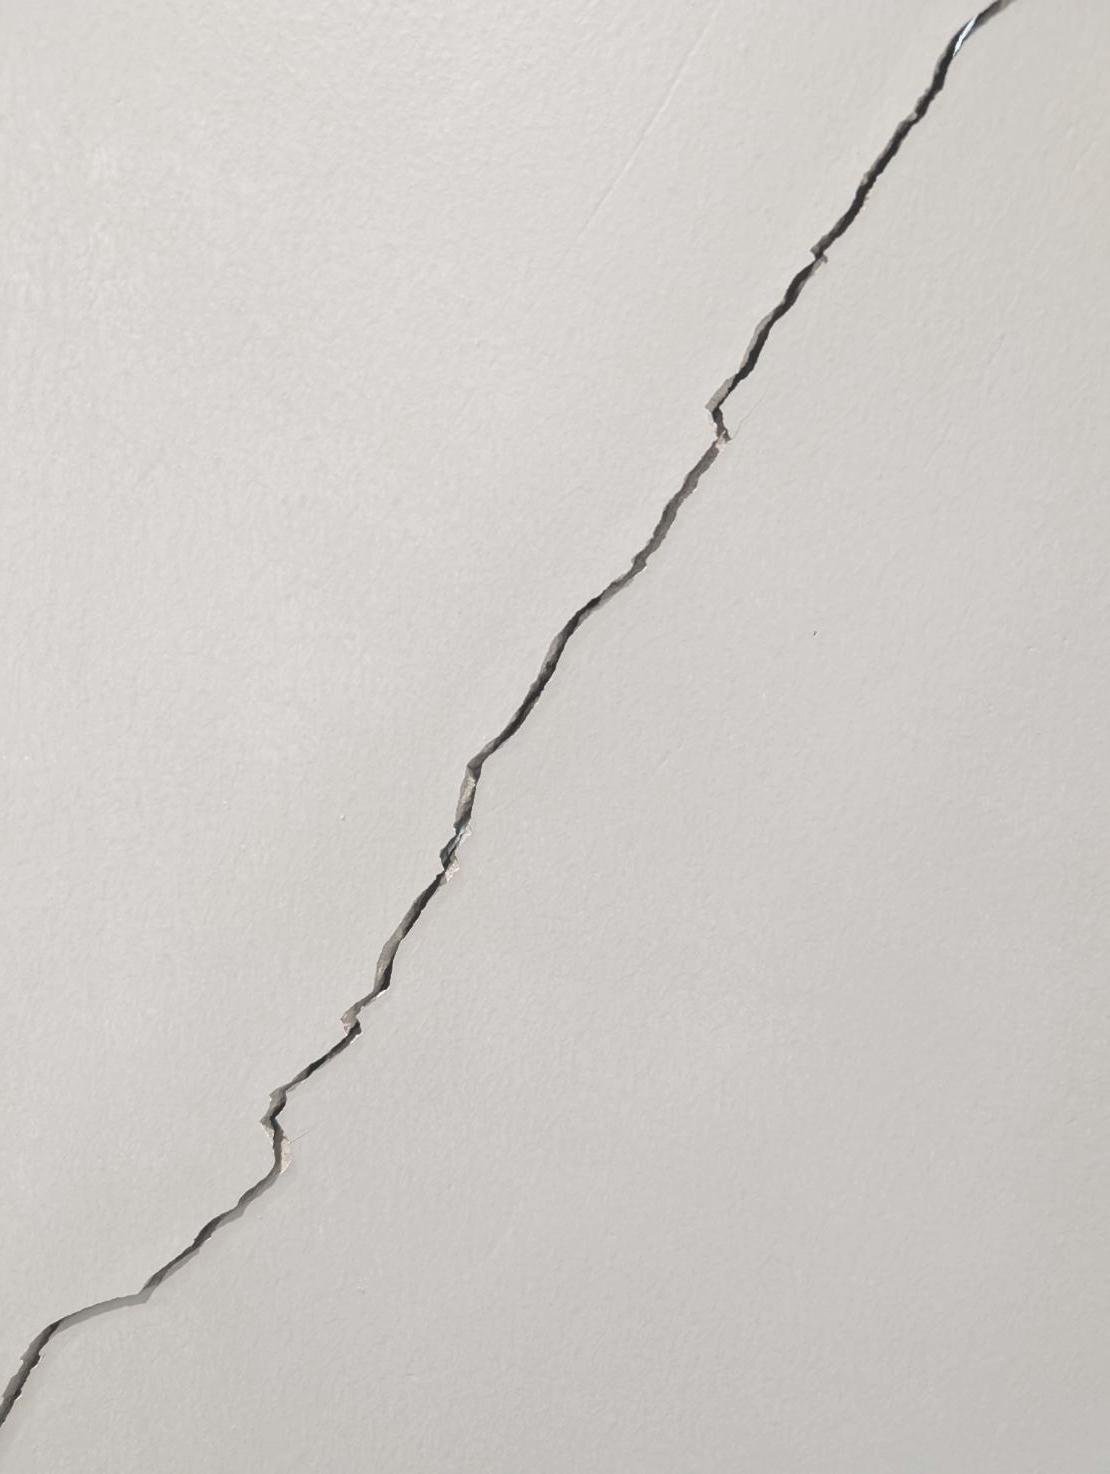High: (2, 3, 1040, 1461)
